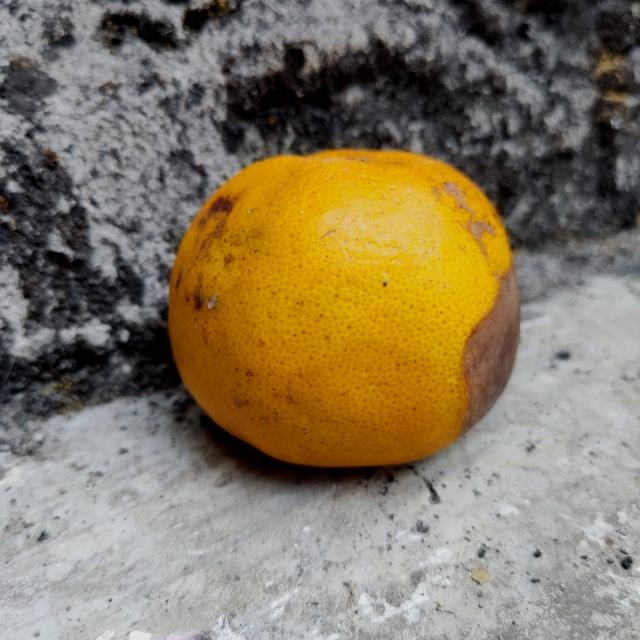agrume: (167, 147, 522, 469)
